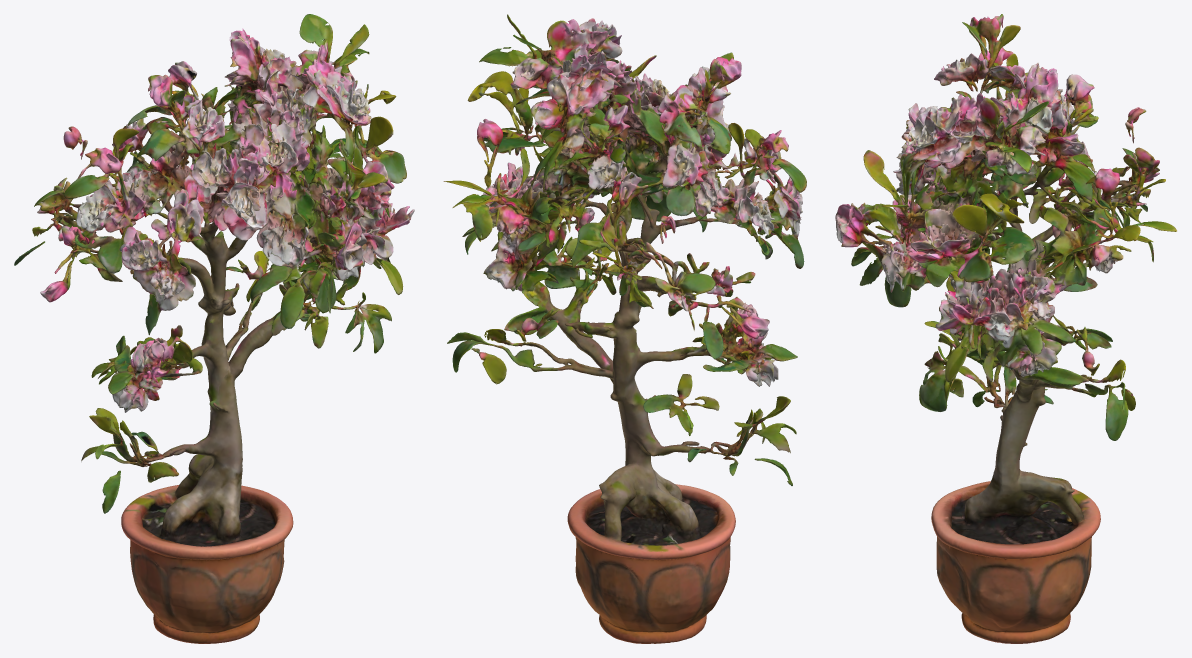
The model's file is crab_apple_royal_beauty_-_garden.glb.
The picture shows the model from 3 angles, left to right: view 1: azimuth 30°, elevation 25°; view 2: azimuth 150°, elevation 25°; view 3: azimuth 270°, elevation 25°; orthographic projection.
Visible parts, largest first — view 1: Object_4, Object_5, Object_6, Object_7, Object_8, Object_9; view 2: Object_4, Object_5, Object_6, Object_7, Object_8, Object_9; view 3: Object_4, Object_5, Object_6, Object_7, Object_8, Object_9.
Boxes of the visible parts, <box> form: Object_4: <box>24,23,397,643</box>; Object_5: <box>14,14,414,643</box>; Object_6: <box>39,17,409,613</box>; Object_7: <box>32,17,414,636</box>; Object_8: <box>29,25,403,642</box>; Object_9: <box>23,34,401,641</box>; Object_4: <box>444,24,806,643</box>; Object_5: <box>443,14,806,620</box>; Object_6: <box>462,20,804,614</box>; Object_7: <box>453,19,803,635</box>; Object_8: <box>453,20,806,643</box>; Object_9: <box>444,23,804,643</box>; Object_4: <box>852,14,1176,643</box>; Object_5: <box>835,50,1158,627</box>; Object_6: <box>840,19,1159,578</box>; Object_7: <box>840,22,1161,643</box>; Object_8: <box>836,17,1165,639</box>; Object_9: <box>836,16,1150,636</box>.
Bounding box in the file's own units: 1.22 × 2 × 1.07.
Materials: 1 (1 with a texture image).
